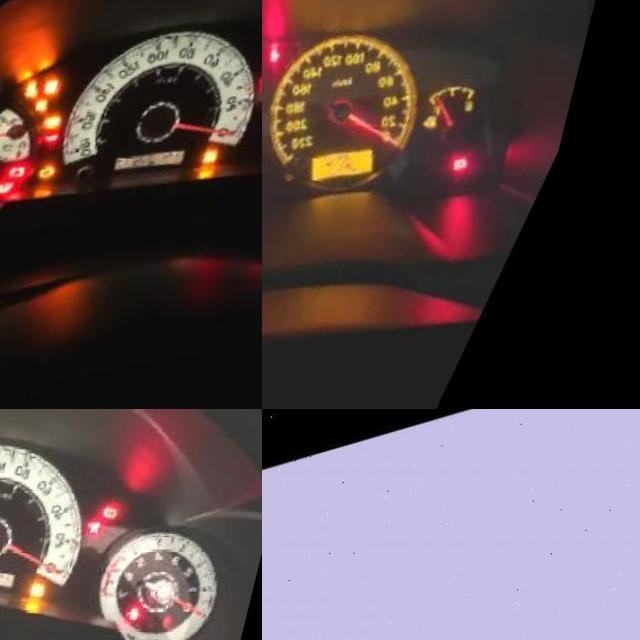Low fuel level: (434, 115, 454, 133)
Seat Belt: (171, 616, 186, 630)
